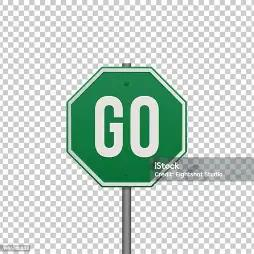Go: (67, 67, 186, 186)
